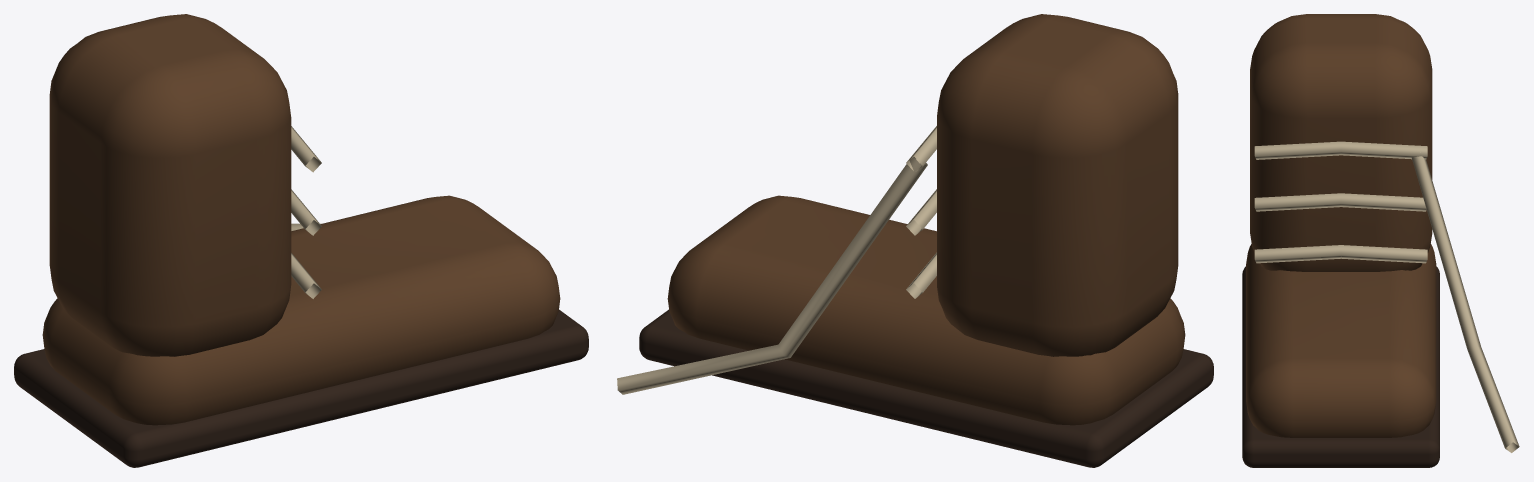
Rendered from item_fish_boot.glb.
3 views of the same model, side by side, from view 1: azimuth 30°, elevation 25°; view 2: azimuth 150°, elevation 25°; view 3: azimuth 270°, elevation 25° (orthographic). The views are drawn at different scales.
Parts seen in each view (by area): view 1: item_fish_boot_main; view 2: item_fish_boot_main; view 3: item_fish_boot_main.
Boxes of the visible parts, bbox=[...] form: item_fish_boot_main: bbox=[14, 14, 588, 467]; item_fish_boot_main: bbox=[617, 14, 1213, 467]; item_fish_boot_main: bbox=[1242, 14, 1519, 467].
Bounding box in the file's own units: 0.23 × 0.172 × 0.1458.
